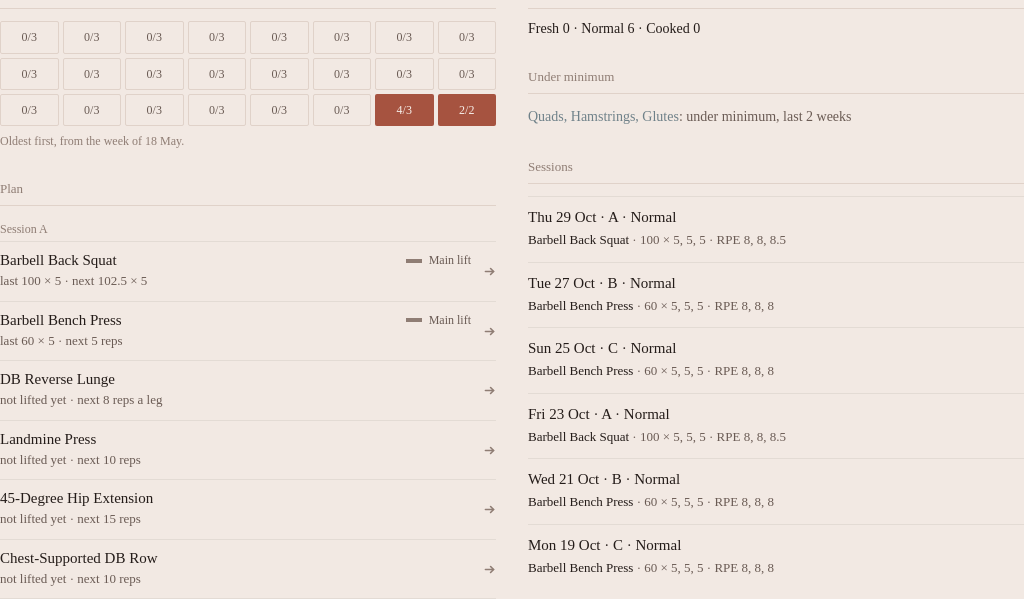
TrainerClientView: the plan › a main lift's options: the send carries the choice and what the pane showed
The image size is (1024, 599).
Click the button "Barbell Back Squat Main lift last 100 × 5 · next 102.5 × 5". click: (58, 260)
box: [0,241,496,301]
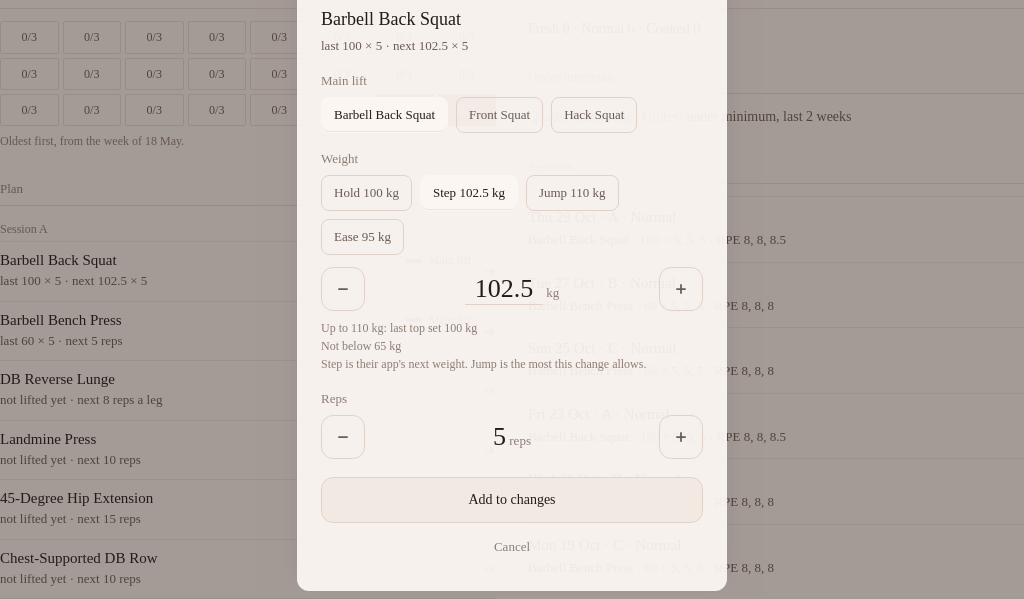
Click the radio button "Front Squat". click: (500, 115)
box: [456,97,543,133]
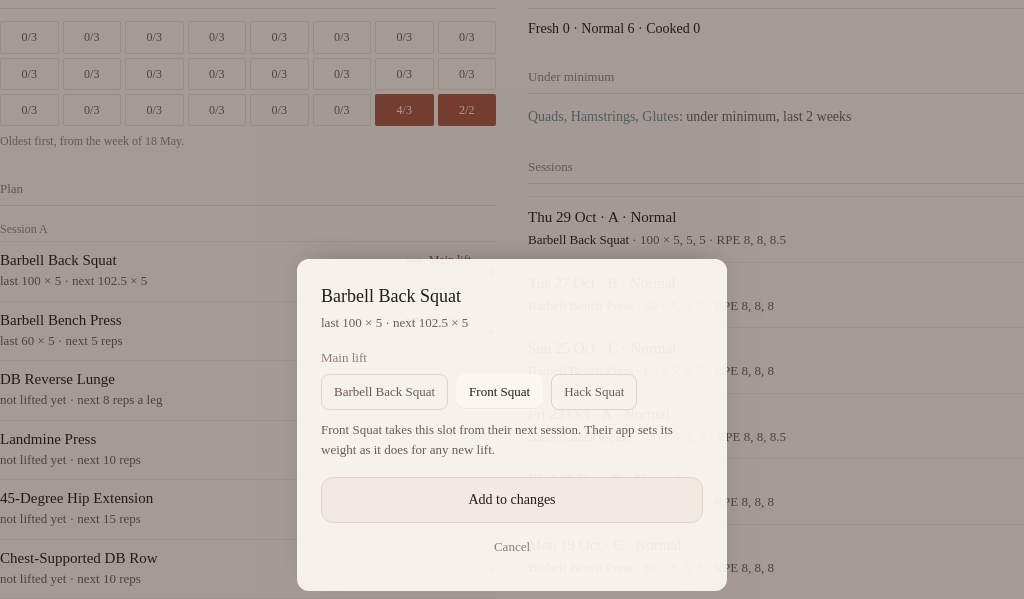
expect the dialog shows "Front Squat takes this slot from their next session.": met, box [297,259,727,591]
Click the button "Add to changes". click: (512, 500)
box: [321,477,703,523]
(page scrolled)
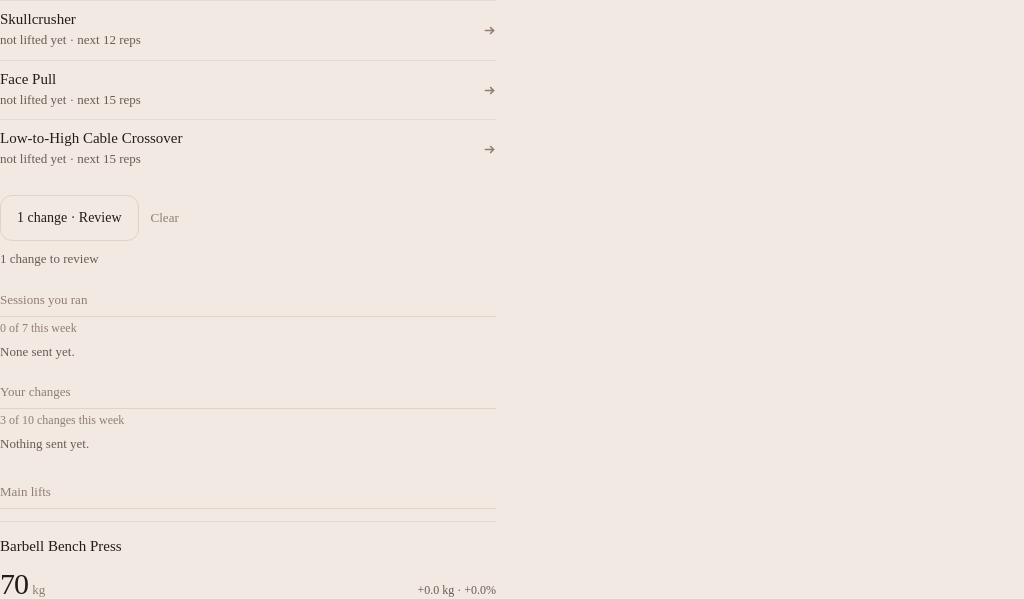
Click the button "1 change · Review". click: (69, 218)
box: [0,195,139,241]
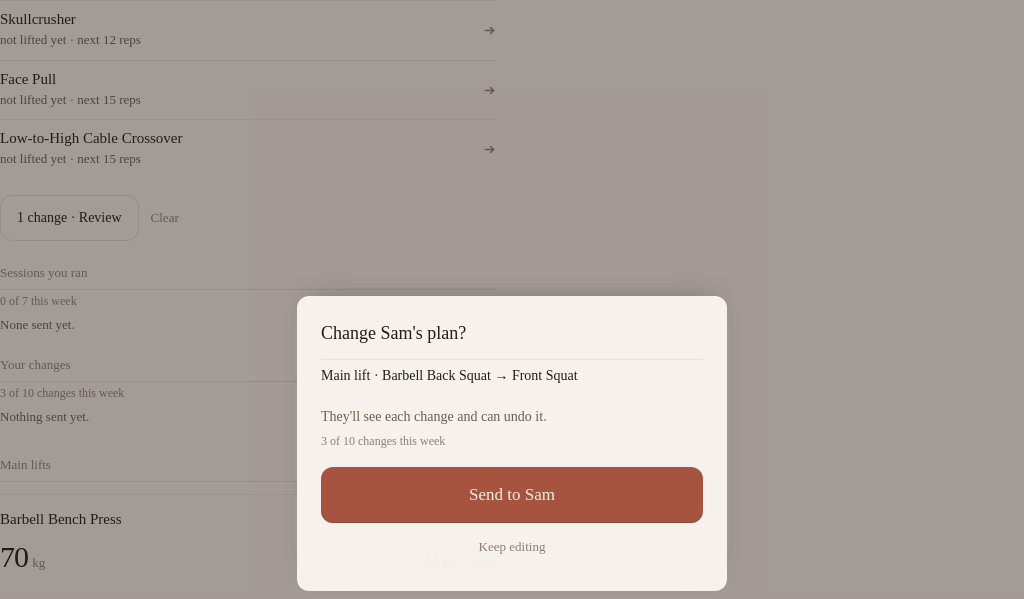
expect the list item "Main lift · Barbell Back Squat → Front Squat" is shown: met, box [321,359,703,392]
